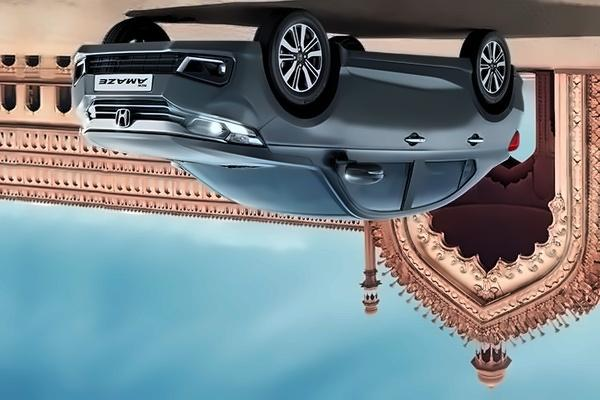Car hood: (81, 127, 317, 171)
Driver-s door - -F-R-: (345, 56, 427, 217)
Fender - -F-R-: (256, 47, 344, 174)
Fender - -R-R-: (470, 63, 512, 158)
Front bumper: (66, 35, 280, 125)
Headlight - -R-: (178, 106, 271, 149)
Passenger-s door - -R-R-: (426, 61, 487, 212)
Rear bumper: (505, 65, 532, 114)
Rear light - -R-: (505, 124, 522, 159)
Side bumper - -R-: (336, 41, 474, 76)
Side mirror - -R-: (340, 158, 388, 187)
